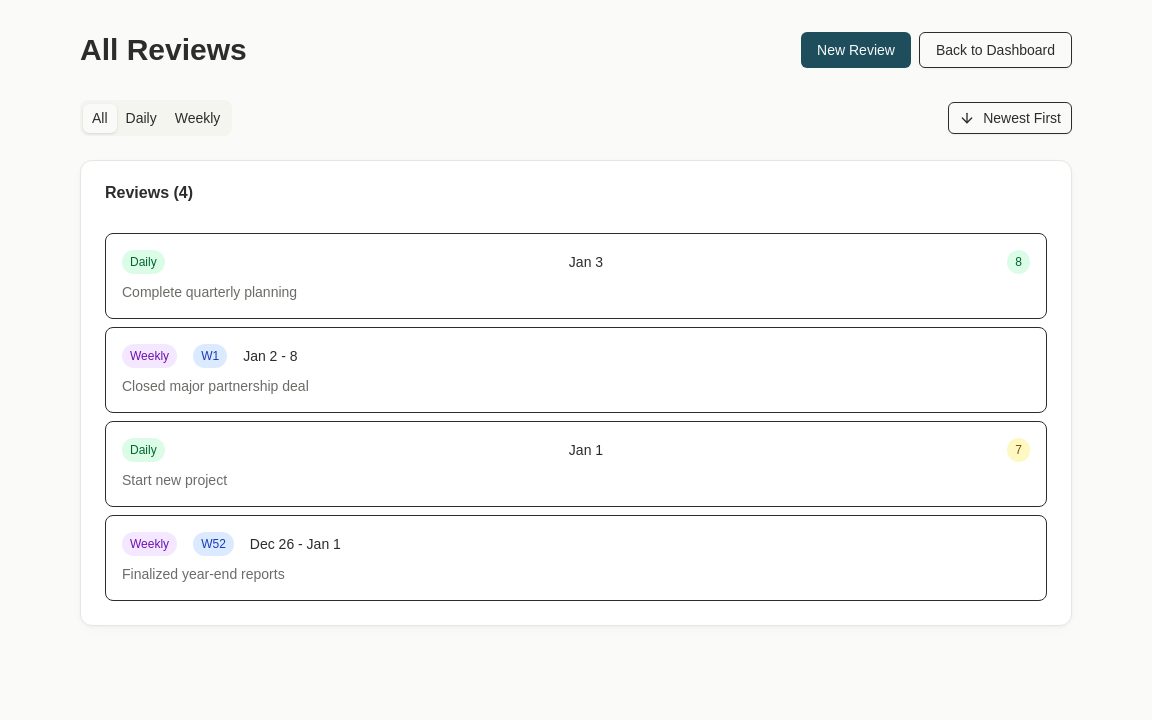
Scenario: AC3: ReviewsPage - Combined View › Sort Integration (AC2 + AC3) › should update order when sort is toggled
Check: the list item "Daily Jan 3 8 Complete quarterly planning" is shown, box [105,233,1047,319]
What coordinates should you click on to do the following:
click the button with test id "sort-toggle"
I would click on:
 (1010, 118)
Its box is [948,102,1072,134].
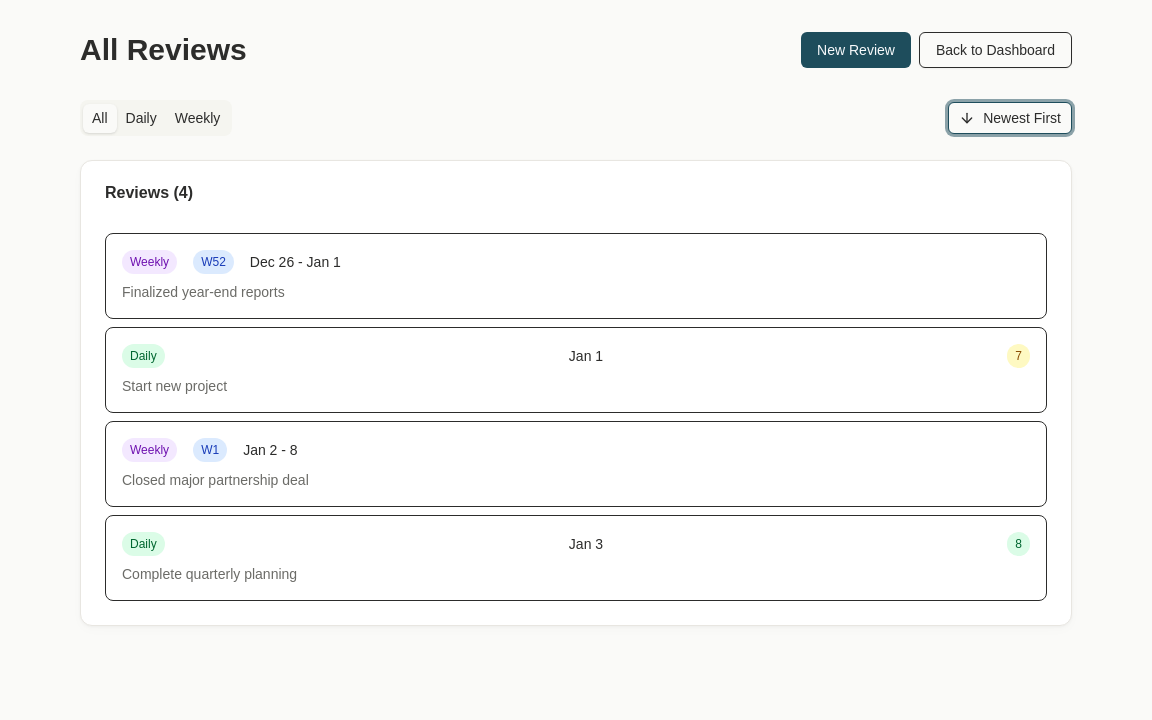
Check: the list item "Weekly W52 Dec 26 - Jan 1 Finalized year-end reports" is shown, box [105,233,1047,319]
